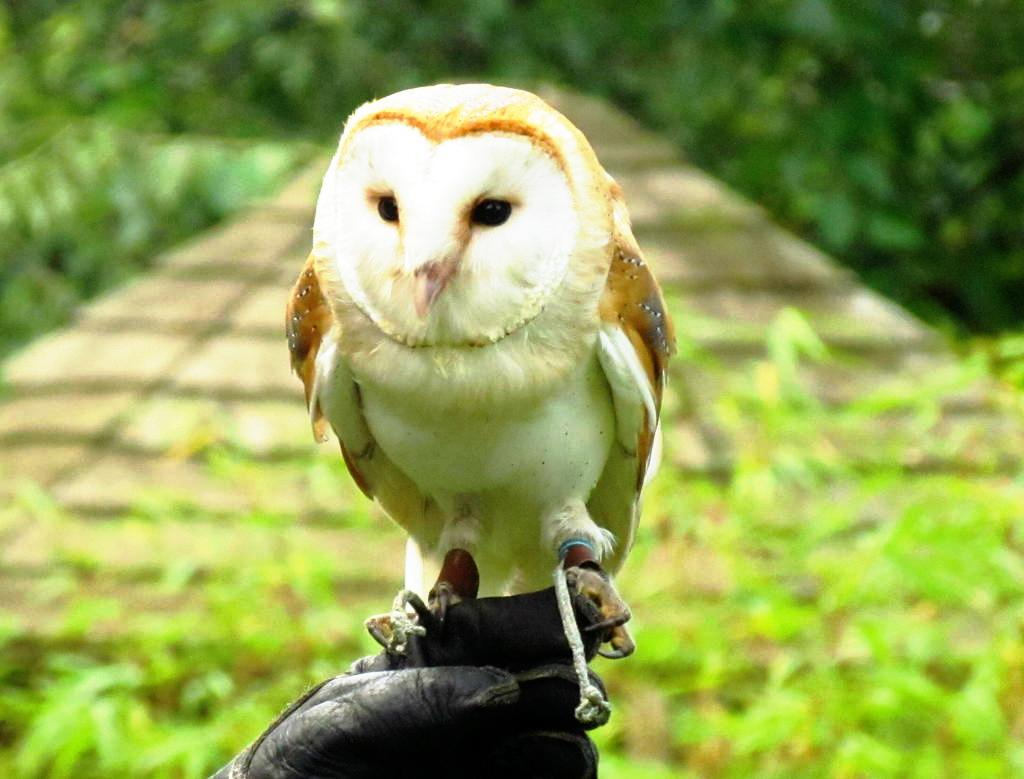Owl: (286, 84, 673, 656)
